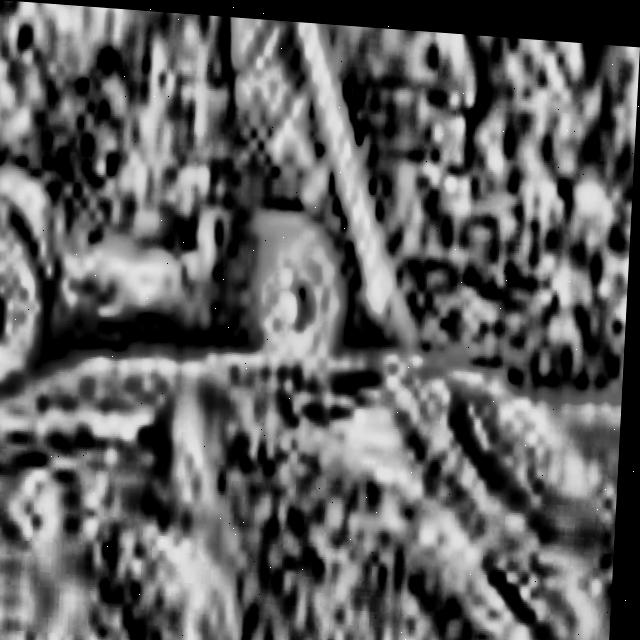dump_truck: (0, 0, 434, 436)
